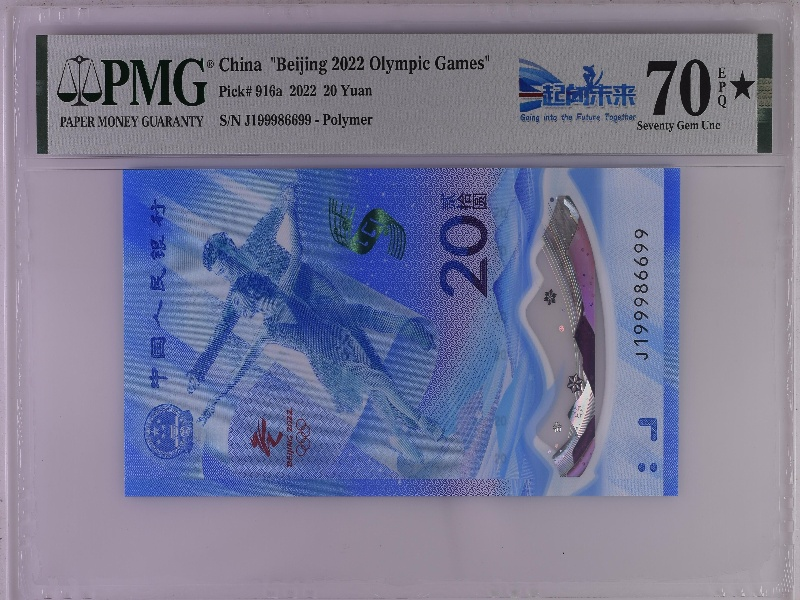papernote: (123, 168, 680, 494)
